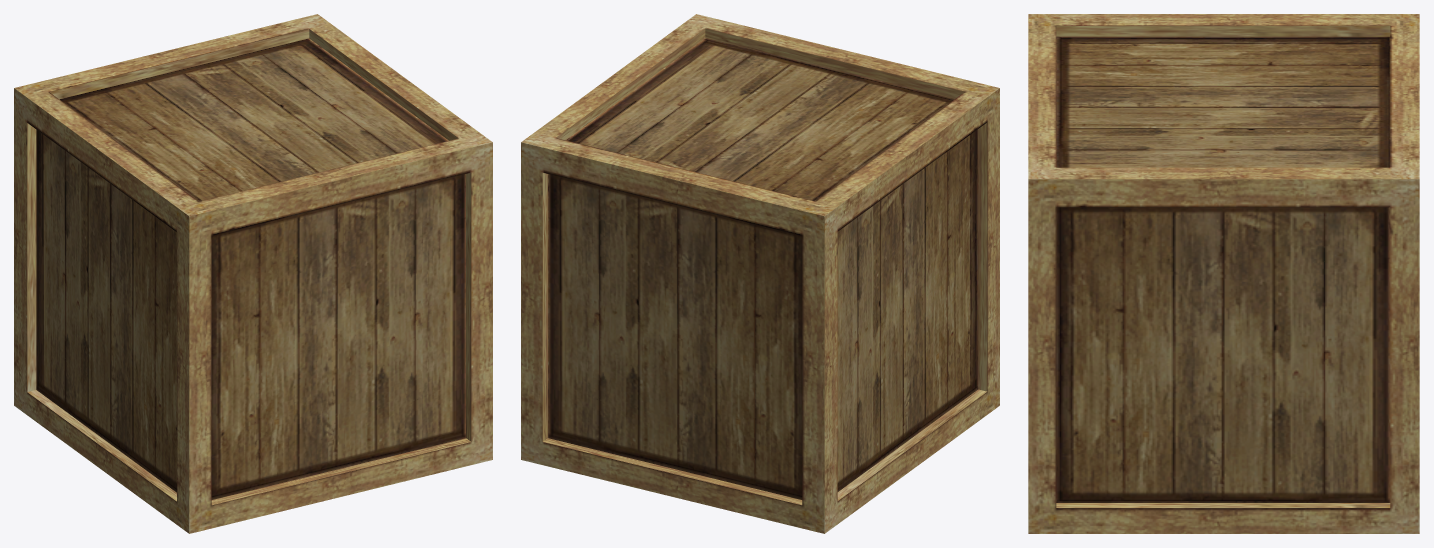
Rendered from Wooden_Crate.fbx.
3 renders of one model, left to right at view 1: azimuth 30°, elevation 25°; view 2: azimuth 150°, elevation 25°; view 3: azimuth 270°, elevation 25°, orthographic. The views are drawn at different scales.
Parts seen in each view (by area): view 1: pCube1; view 2: pCube1; view 3: pCube1.
Part boxes in pixels (x1=…): pCube1: x1=14, y1=14, x2=492, y2=533; pCube1: x1=521, y1=14, x2=999, y2=533; pCube1: x1=1028, y1=14, x2=1419, y2=533.
Bounding box in the file's own units: 22.23 × 22.31 × 22.23.
